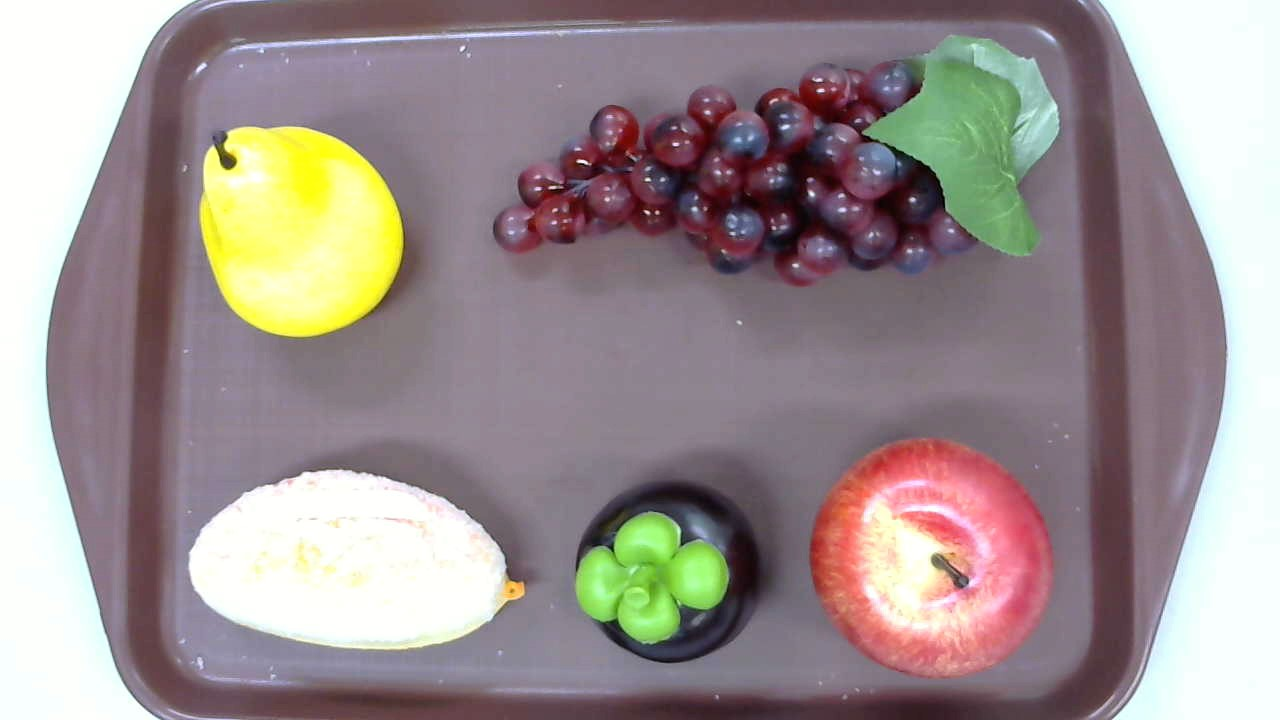coconut: (188, 469, 525, 651)
grape: (492, 34, 1060, 291)
mangosteen: (575, 478, 760, 665)
red apple: (810, 436, 1053, 679)
yellow pear: (200, 124, 403, 340)
